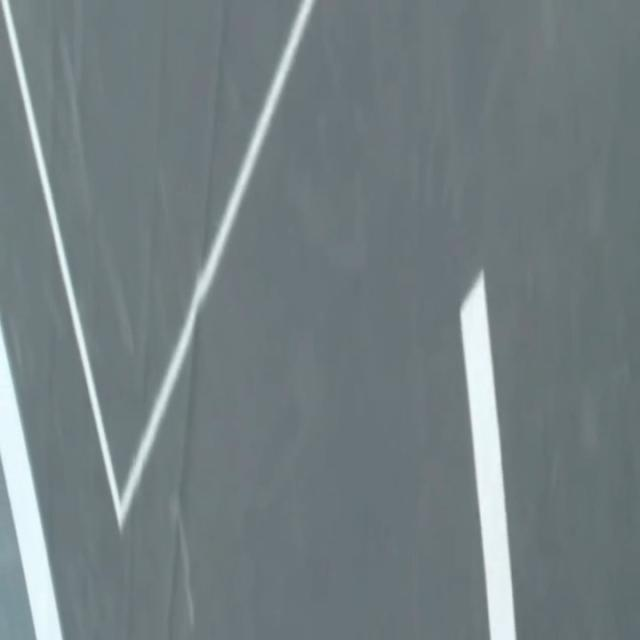center: (460, 271, 516, 639)
